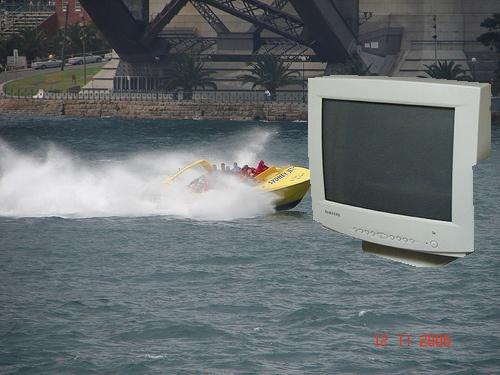tampered: (309, 76, 491, 267)
